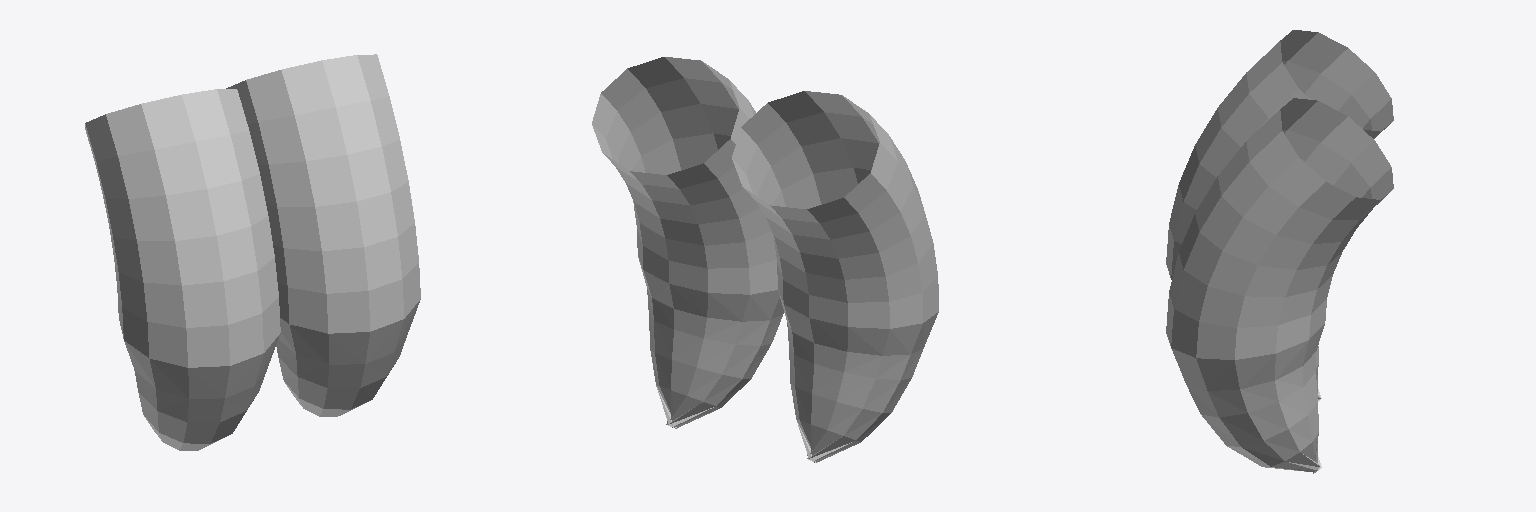
File: mesh_fangs.obj
The picture shows the model from 3 angles: view 1: azimuth 30°, elevation 25°; view 2: azimuth 150°, elevation 25°; view 3: azimuth 270°, elevation 25°; orthographic projection.
Visible parts, largest first — view 1: Torus, Torus.001_Torus.003; view 2: Torus, Torus.001_Torus.003; view 3: Torus.001_Torus.003, Torus.
Part boxes in pixels (x1,y1,x2,y2): Torus: (85, 89, 280, 450); Torus.001_Torus.003: (226, 54, 420, 416); Torus: (732, 91, 938, 462); Torus.001_Torus.003: (592, 57, 783, 428); Torus.001_Torus.003: (1166, 98, 1393, 473); Torus: (1166, 30, 1393, 401).
Bounding box in the file's own units: 0.5073 × 0.6032 × 0.3474.